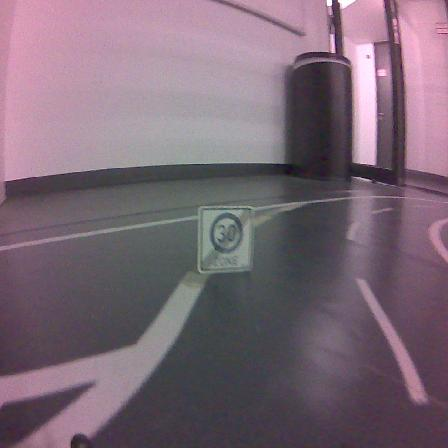30_ZONE_END: (199, 207, 255, 273)
